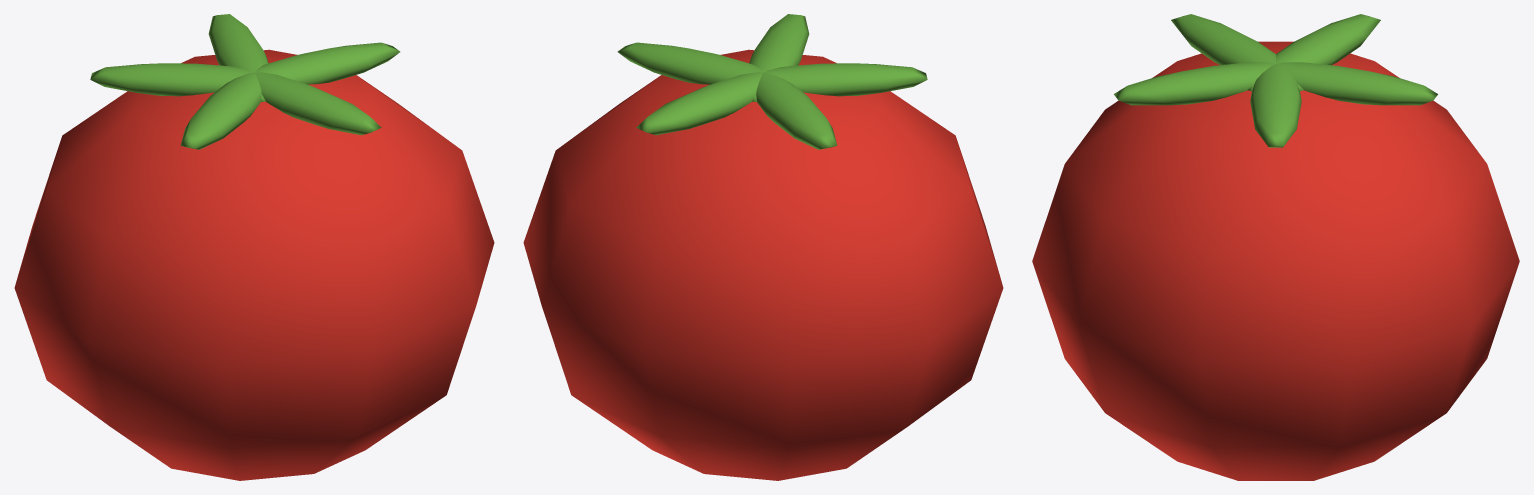
The model's file is tomato_raw.glb.
3 renders of one model, left to right at view 1: azimuth 30°, elevation 25°; view 2: azimuth 150°, elevation 25°; view 3: azimuth 270°, elevation 25°, orthographic. The views are drawn at different scales.
Parts seen in each view (by area): view 1: Heirloom tomato, Calyx.002, Calyx.004, Calyx, Calyx.003, Calyx.001; view 2: Heirloom tomato, Calyx.003, Calyx.001, Calyx, Calyx.002, Calyx.004; view 3: Heirloom tomato, Calyx.001, Calyx.004, Calyx, Calyx.002, Calyx.003.
Boxes of the visible parts, box(x1,y1,x2,y2) form: Heirloom tomato: box(14, 49, 494, 480); Calyx.002: box(90, 63, 253, 96); Calyx.004: box(255, 72, 381, 135); Calyx: box(255, 42, 400, 84); Calyx.003: box(180, 72, 261, 149); Calyx.001: box(208, 14, 268, 101); Heirloom tomato: box(523, 49, 1003, 480); Calyx.003: box(764, 63, 927, 96); Calyx.001: box(636, 72, 762, 135); Calyx: box(617, 42, 762, 84); Calyx.002: box(756, 72, 837, 149); Calyx.004: box(749, 14, 809, 101); Heirloom tomato: box(1032, 41, 1519, 480); Calyx.001: box(1276, 62, 1437, 105); Calyx.004: box(1114, 62, 1275, 105); Calyx: box(1250, 64, 1301, 147); Calyx.002: box(1248, 14, 1380, 91); Calyx.003: box(1171, 14, 1303, 91).
Size of the model in its own units: 0.3348 by 0.304 by 0.34.
